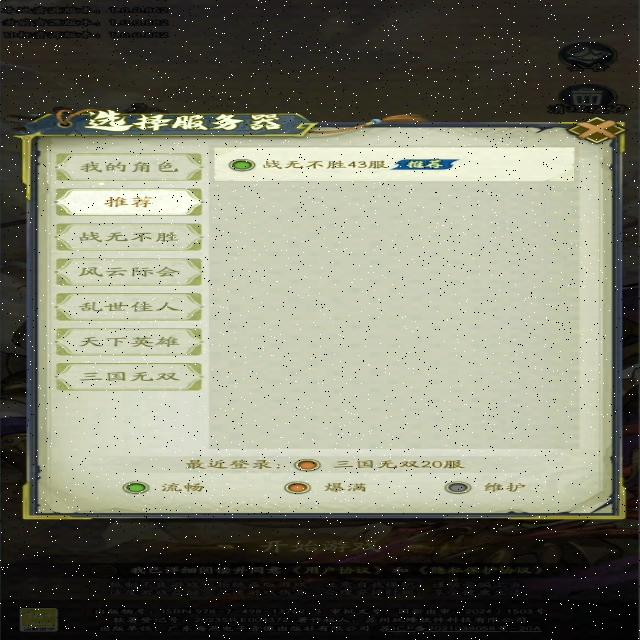operation-close: (570, 117, 632, 142)
